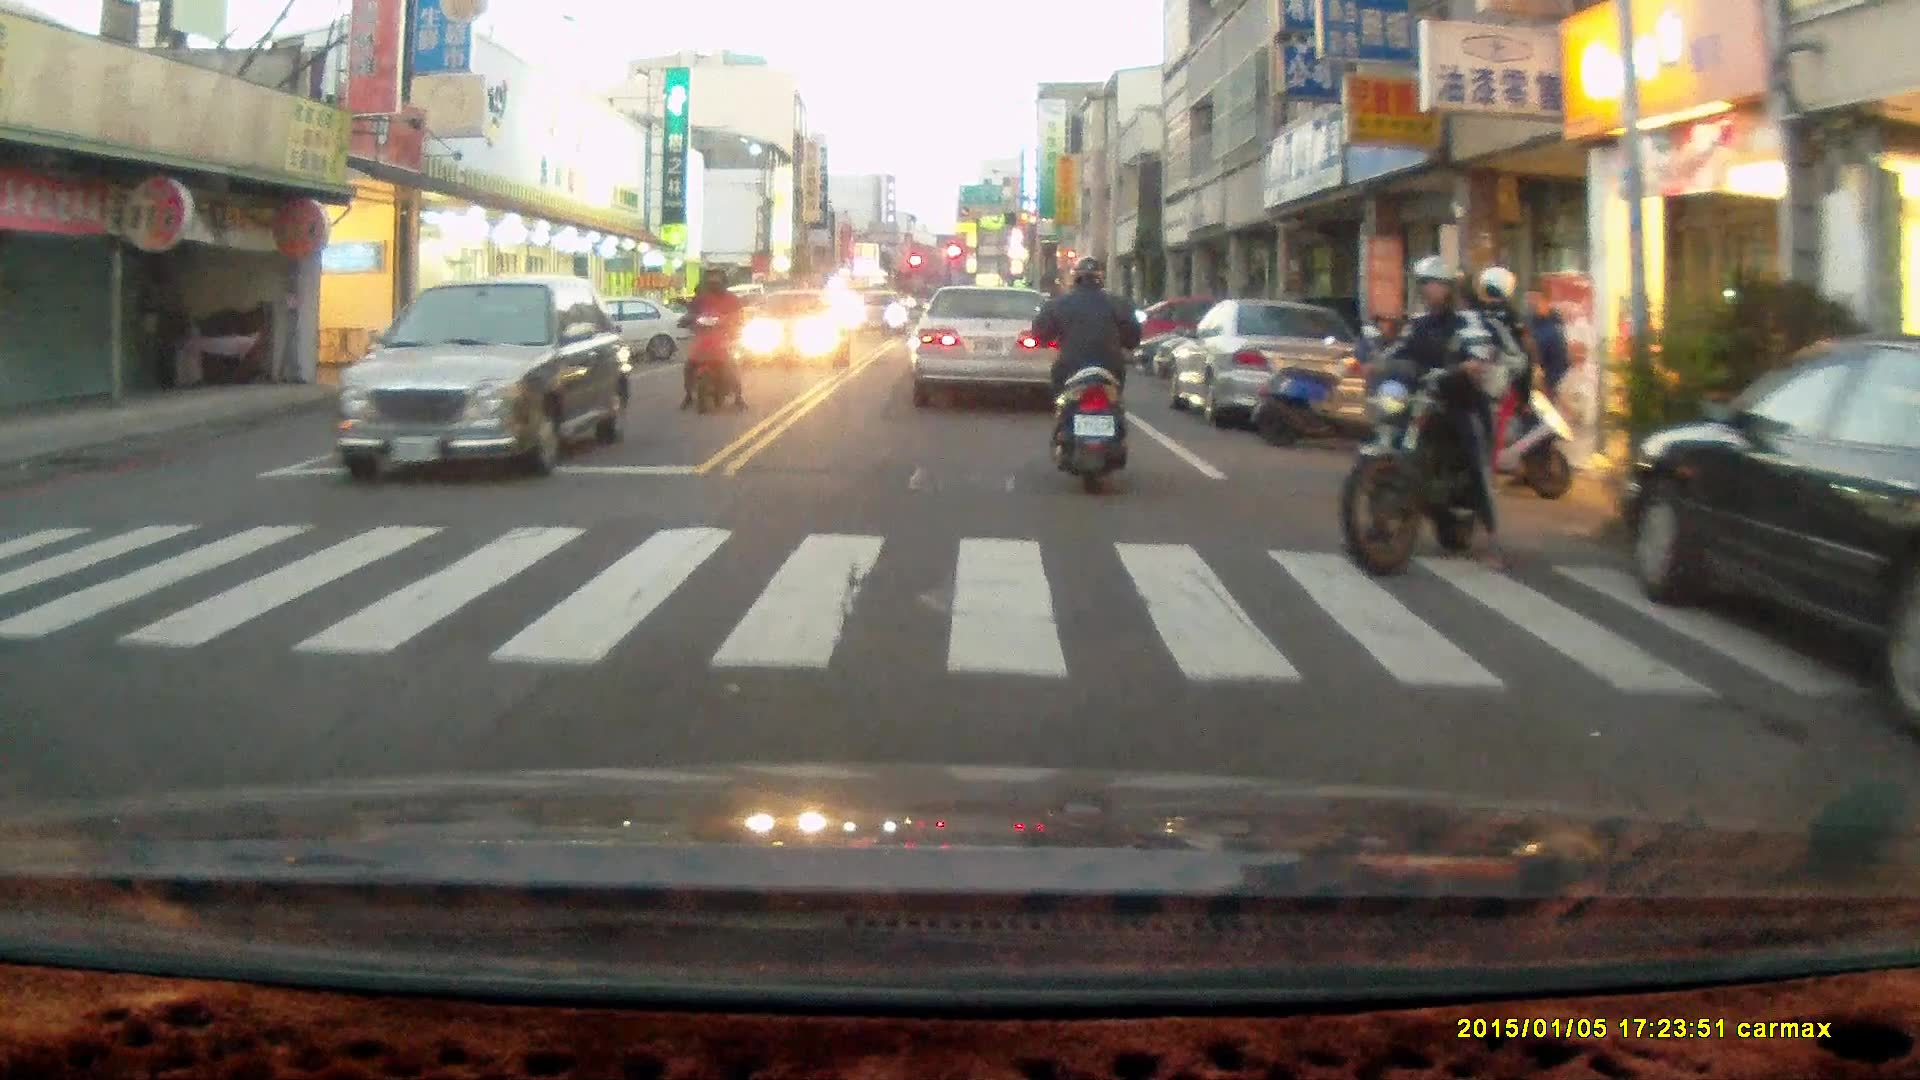pedestrian: (1454, 265, 1526, 499), (1522, 283, 1569, 467)
rider: (1339, 256, 1520, 571), (1028, 252, 1145, 493), (675, 260, 747, 416)
vehicle: (1619, 328, 1920, 725), (341, 275, 634, 482), (1174, 303, 1377, 434), (914, 287, 1069, 403), (732, 286, 845, 371)
